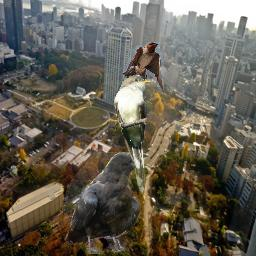Crow: (64, 152, 149, 254)
Cuckoo: (114, 74, 153, 195)
Swallow: (123, 42, 164, 93)
